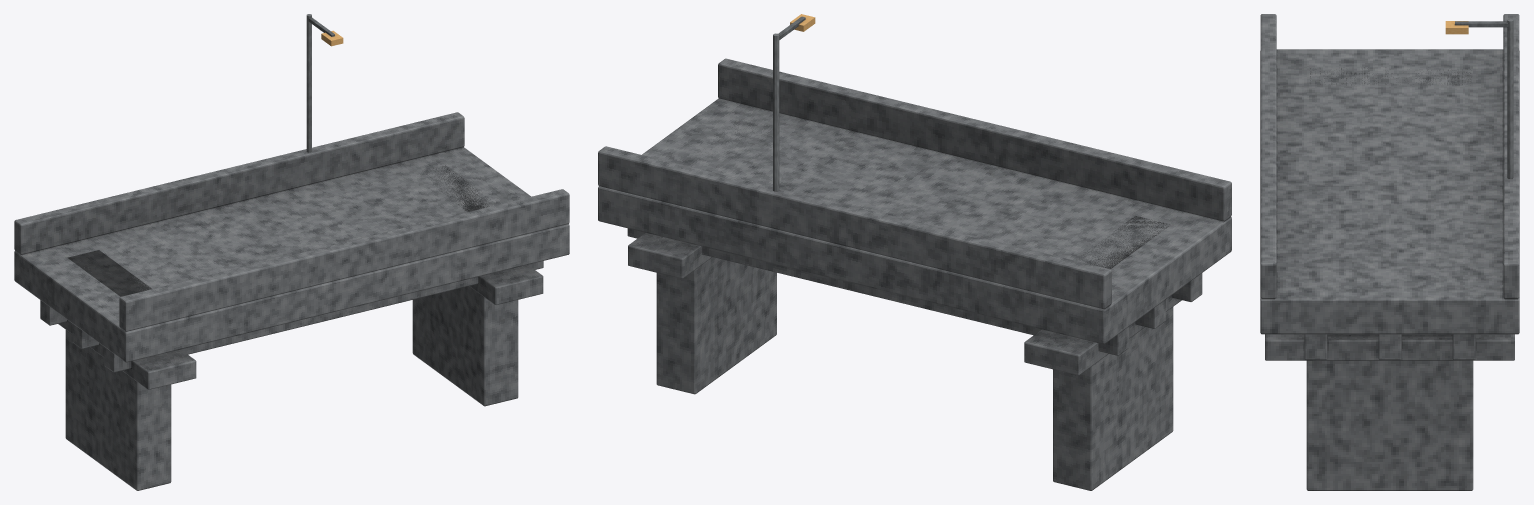
Rendered from city_overpass.glb.
3 renders of one model, left to right at view 1: azimuth 30°, elevation 25°; view 2: azimuth 150°, elevation 25°; view 3: azimuth 270°, elevation 25°, orthographic. The views are drawn at different scales.
Parts seen in each view (by area): view 1: city_overpass; view 2: city_overpass; view 3: city_overpass.
Boxes of the visible parts, box(x1,y1,x2,y2) form: city_overpass: box(14, 14, 569, 490); city_overpass: box(598, 14, 1231, 490); city_overpass: box(1260, 14, 1519, 490).
Size of the model in its own units: 12.8 by 9.6 by 5.6.
3 materials, 3 textured.
